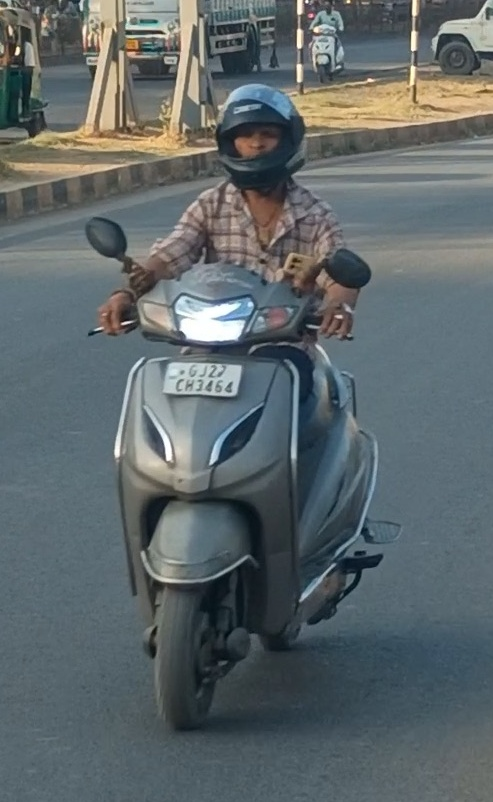BikeWithRider: (80, 78, 404, 735), (301, 0, 352, 88)
Helmet: (212, 82, 314, 193)
